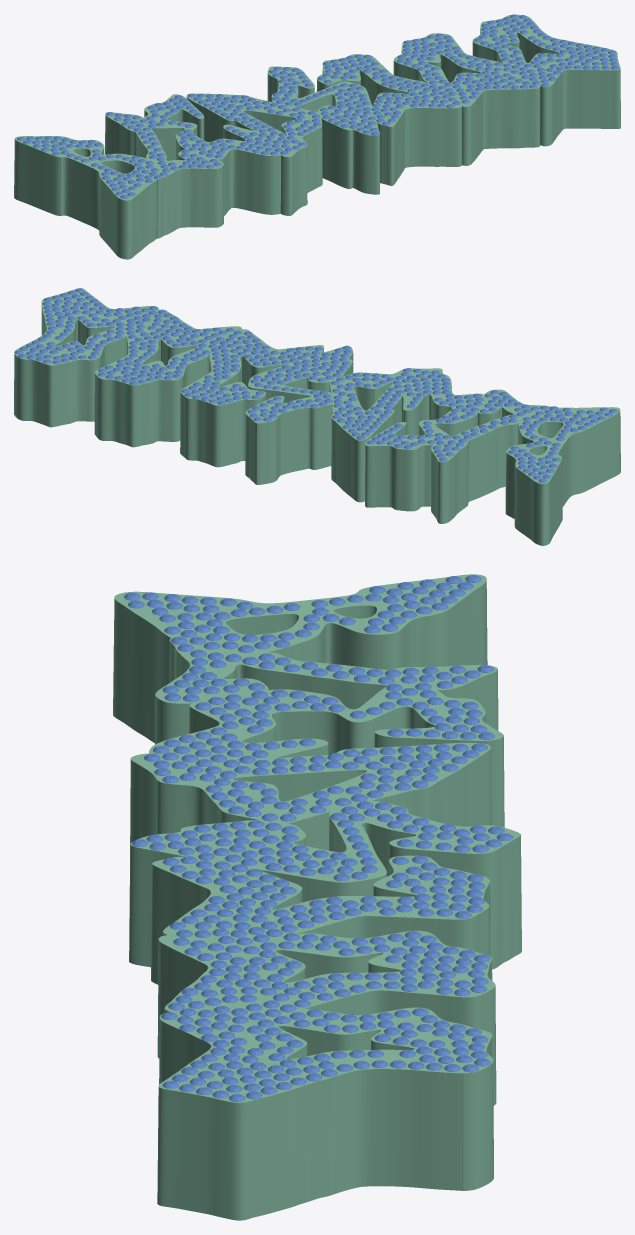
3 views of the same model, one above another, from view 1: azimuth 30°, elevation 25°; view 2: azimuth 150°, elevation 25°; view 3: azimuth 270°, elevation 25° (orthographic). The views are drawn at different scales.
Visible parts, largest first — view 1: FullSave_9_Blank.3dm; view 2: FullSave_9_Blank.3dm; view 3: FullSave_9_Blank.3dm.
Part boxes in pixels (x1,y1,x2,y2): FullSave_9_Blank.3dm: [14, 14, 620, 259]; FullSave_9_Blank.3dm: [14, 288, 620, 545]; FullSave_9_Blank.3dm: [113, 574, 521, 1220].
Bounding box in the file's own units: 3.78 × 0.3997 × 1.24.
